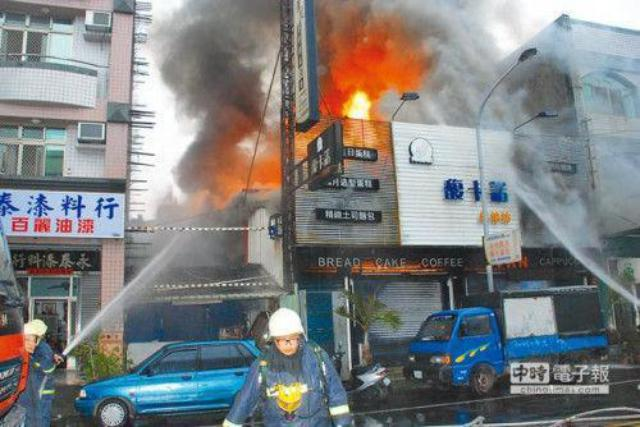fire: (331, 56, 375, 117)
